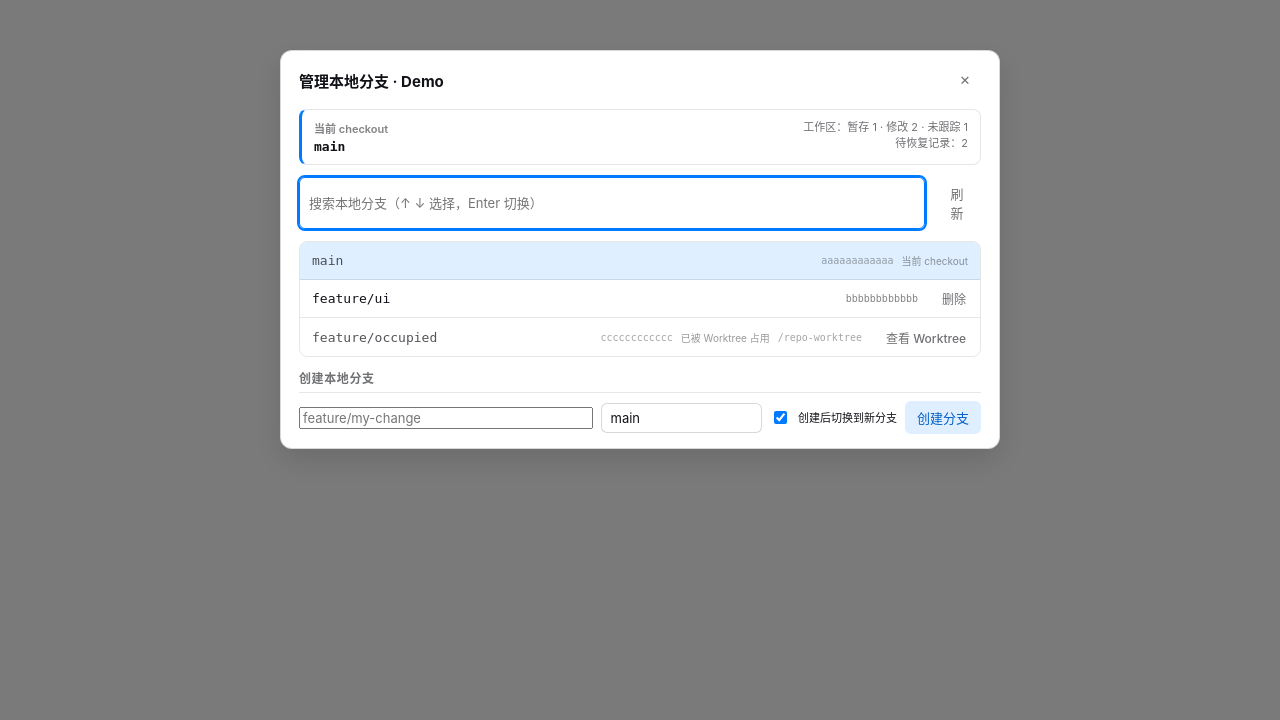
Test case: local branch management › deletes through the typed backend API, refreshes the list, and focuses search
Click the button with aria-label "删除分支 feature/ui" at (954, 299), box [933,286,975,311]
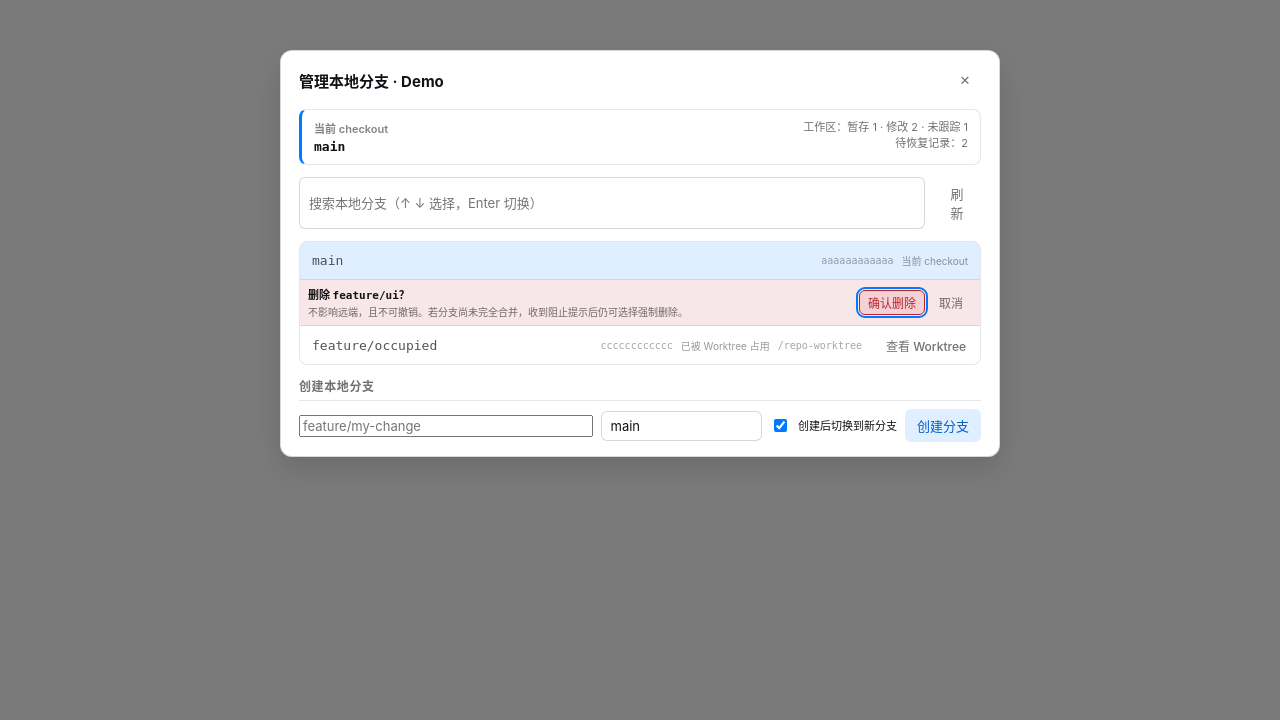
Click the button "确认删除" at (892, 303), box [859,290,925,315]
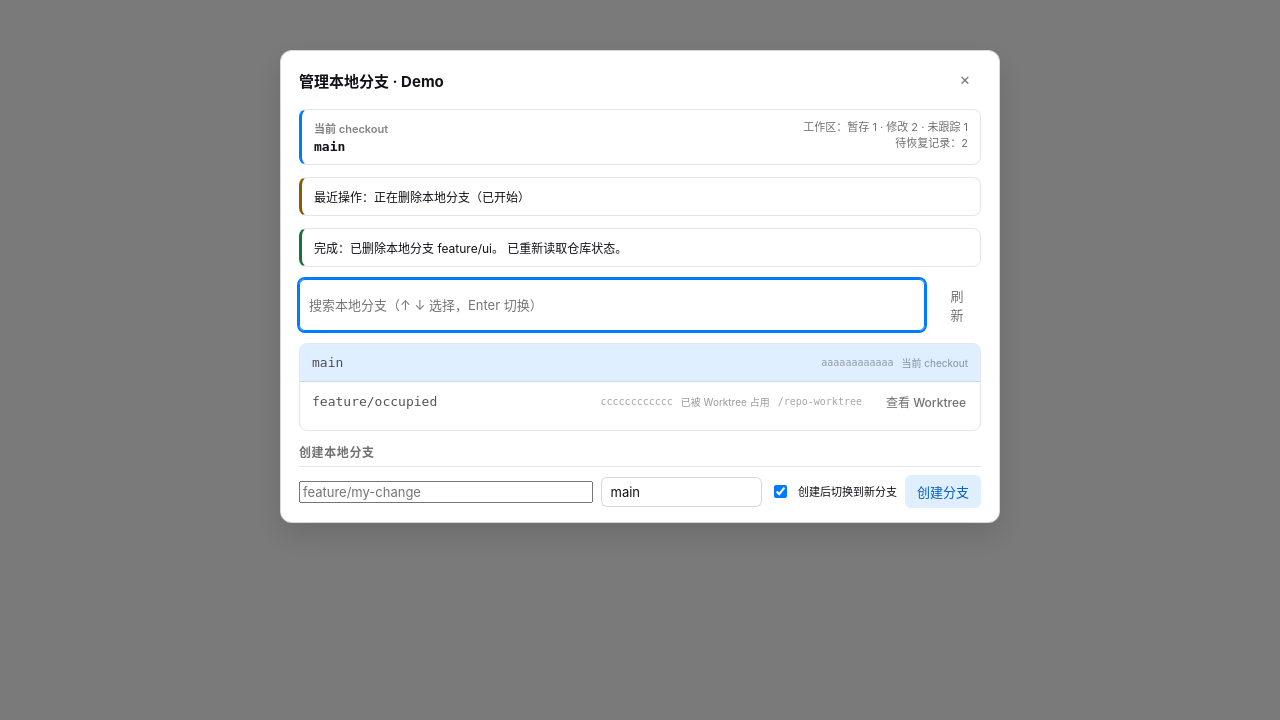
Result: the text "完成：已删除本地分支 feature/ui。 已重新读取仓库状态。" is shown at [299,228,981,267]
